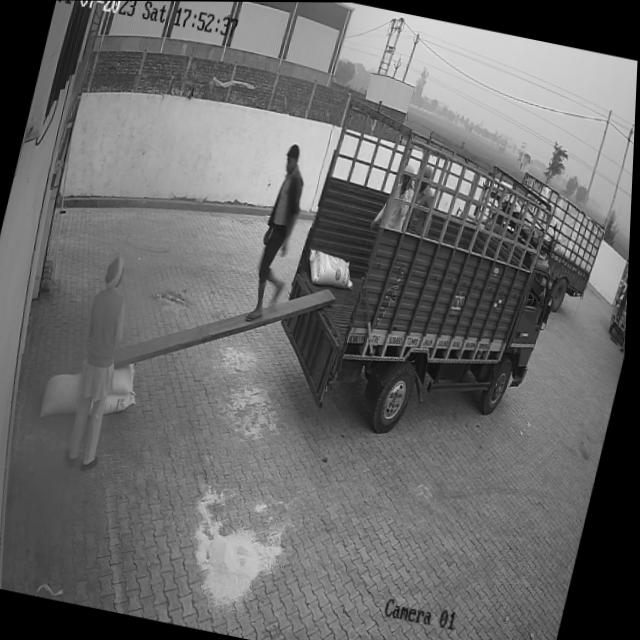sack: (42, 367, 91, 424), (305, 247, 359, 291), (110, 360, 141, 397), (107, 389, 140, 419)
